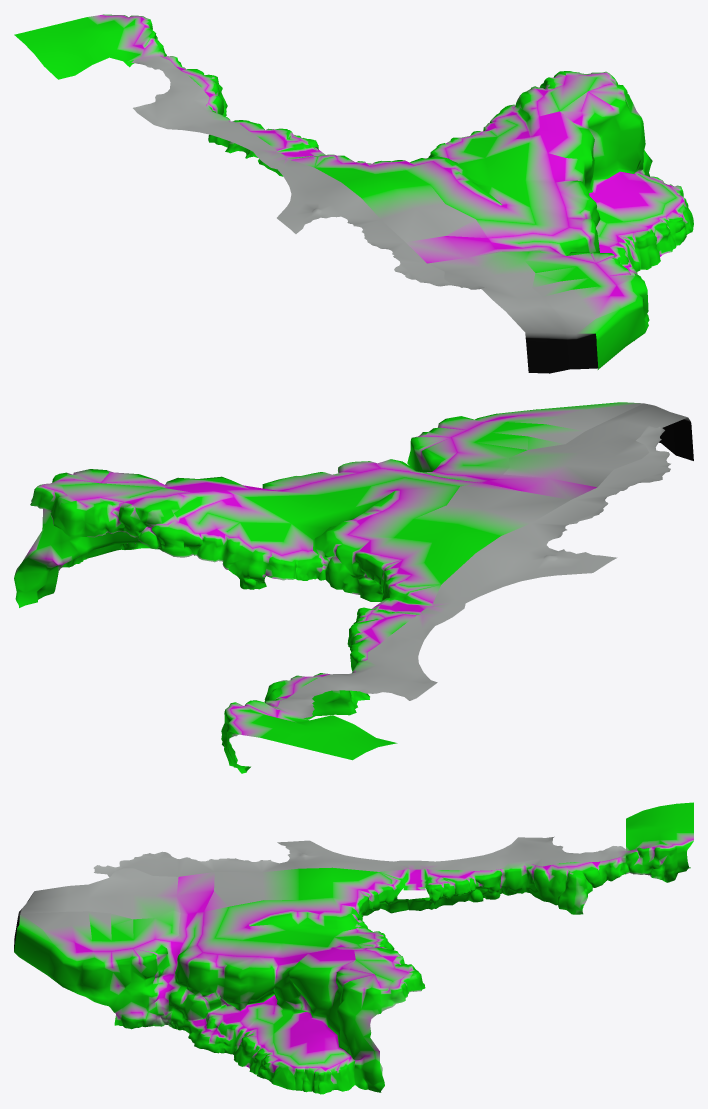
3 renders of one model, top to bottom at view 1: azimuth 30°, elevation 25°; view 2: azimuth 150°, elevation 25°; view 3: azimuth 270°, elevation 25°, orthographic. The views are drawn at different scales.
Parts seen in each view (by area): view 1: G:\FFXIV-MapTools\exports\f1f1\bg\ffxiv\fst_f1\fld\f1f1\bgpa (×6); view 2: G:\FFXIV-MapTools\exports\f1f1\bg\ffxiv\fst_f1\fld\f1f1\bgpa (×6); view 3: G:\FFXIV-MapTools\exports\f1f1\bg\ffxiv\fst_f1\fld\f1f1\bgpa (×6).
Part boxes in pixels (x1=…): G:\FFXIV-MapTools\exports\f1f1\bg\ffxiv\fst_f1\fld\f1f1\bgpa (×6): x1=14, y1=14, x2=693, y2=373; G:\FFXIV-MapTools\exports\f1f1\bg\ffxiv\fst_f1\fld\f1f1\bgpa (×6): x1=14, y1=402, x2=693, y2=773; G:\FFXIV-MapTools\exports\f1f1\bg\ffxiv\fst_f1\fld\f1f1\bgpa (×6): x1=14, y1=802, x2=693, y2=1094.
Size of the model in its own units: 212 by 58.06 by 324.
